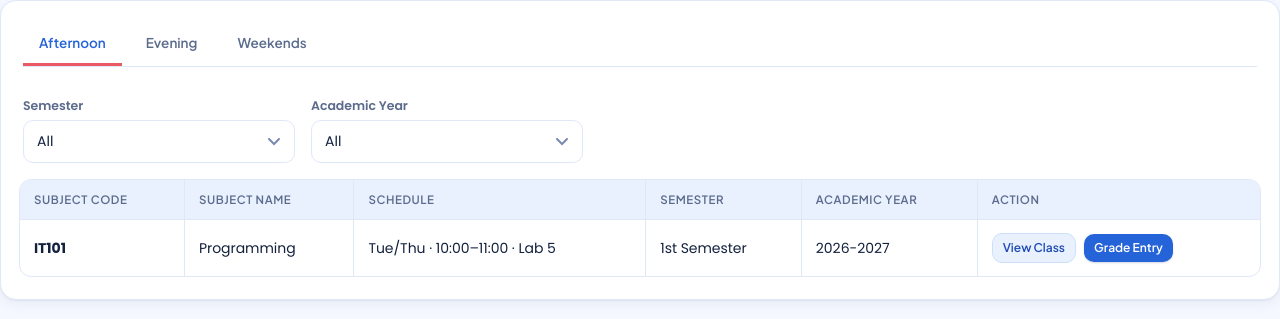
Test: FacultySubjectsComponent › shows only faculty-assigned subjects in the matching session tab with schedule and room
This screenshot has width=1280, height=319.
Check: the table with class "subject-table" shows "IT101", box [34,238,66,258]
Check: the table with class "subject-table" shows "Tue/Thu", box [368,238,426,258]
Click the tab "Evening" at (172,45), box [130,23,213,66]
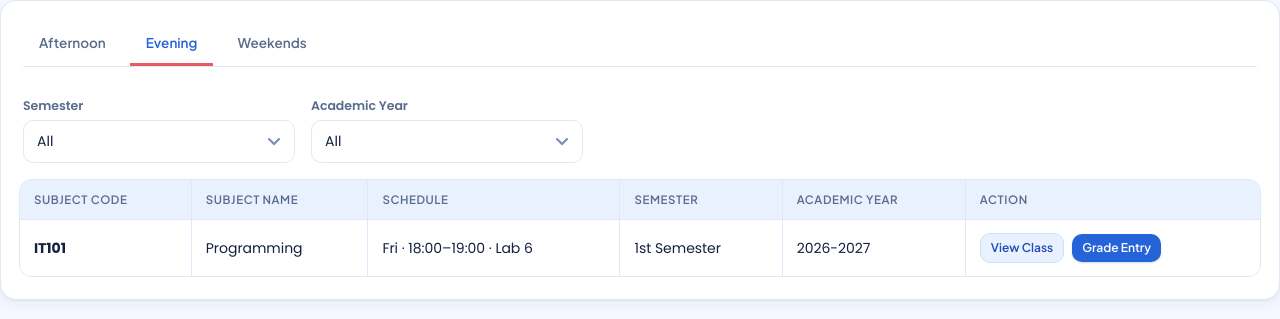
Check: the table with class "subject-table" shows "Lab 6", box [485,238,533,258]
Check: the cell with class "subject-table" no longer shows "Lab 5"
